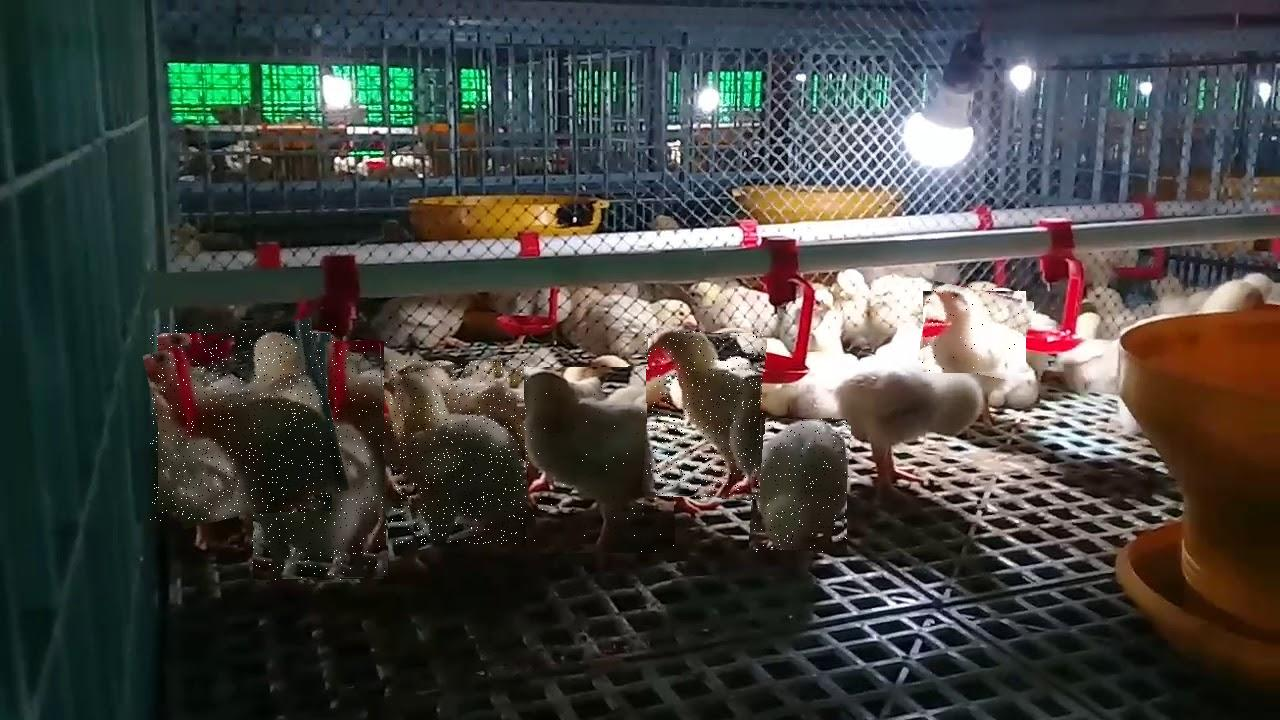chicken: (151, 324, 342, 521), (253, 342, 388, 582), (525, 367, 675, 553), (390, 361, 528, 545), (646, 331, 765, 499), (751, 419, 849, 553), (921, 286, 1031, 378)
